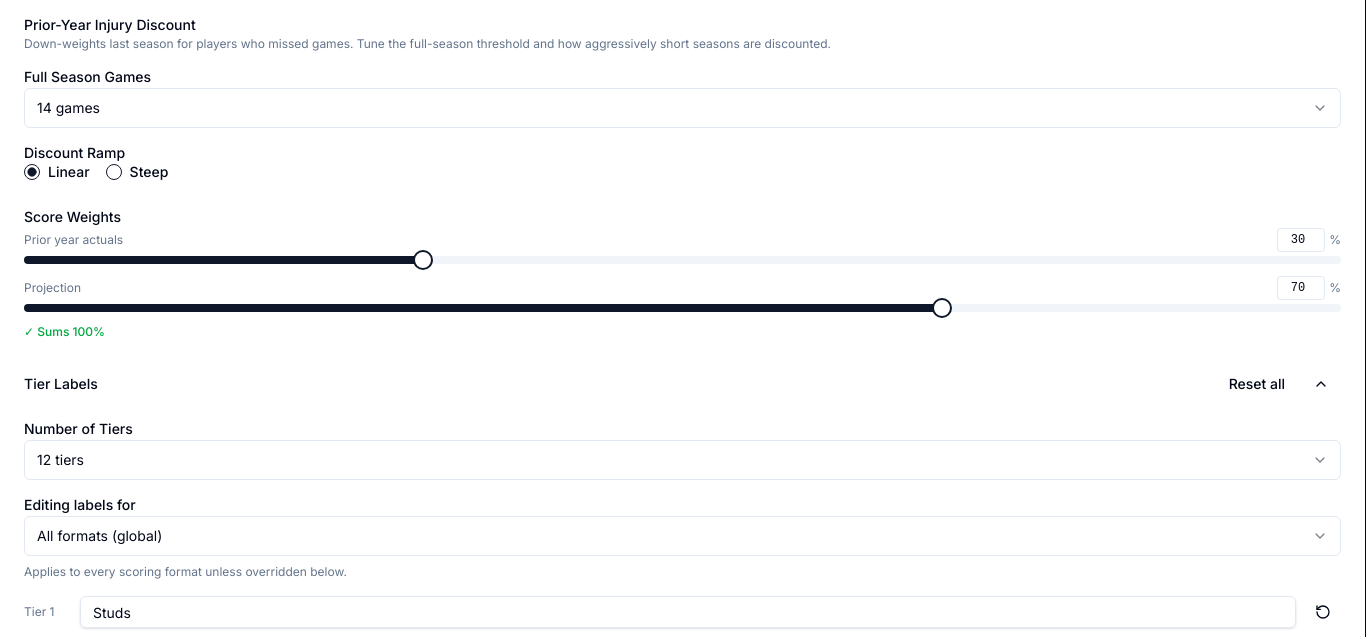
Test: SettingsPanel — Tier Labels section › clicking Reset all removes all overrides and hides the button
The image size is (1366, 637).
(page scrolled)
Click the button "Reset all": (1257, 384) 1217,366 -> 1297,402
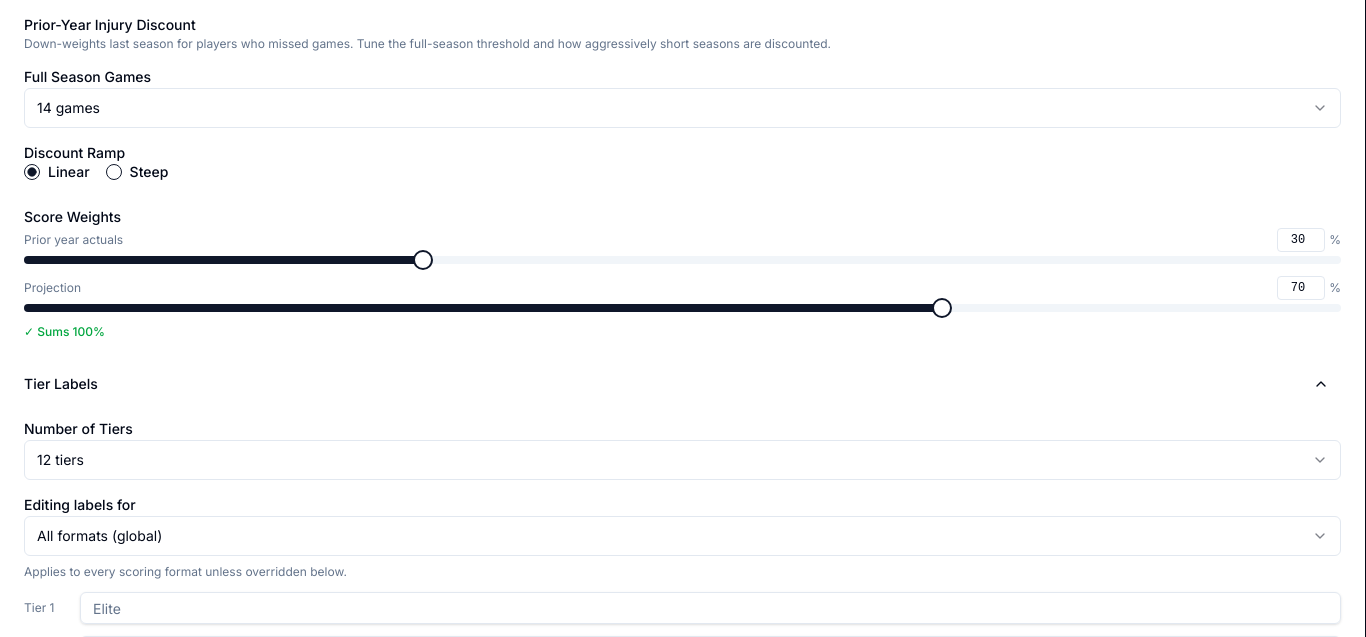
Expected: the button "Reset all" is gone
